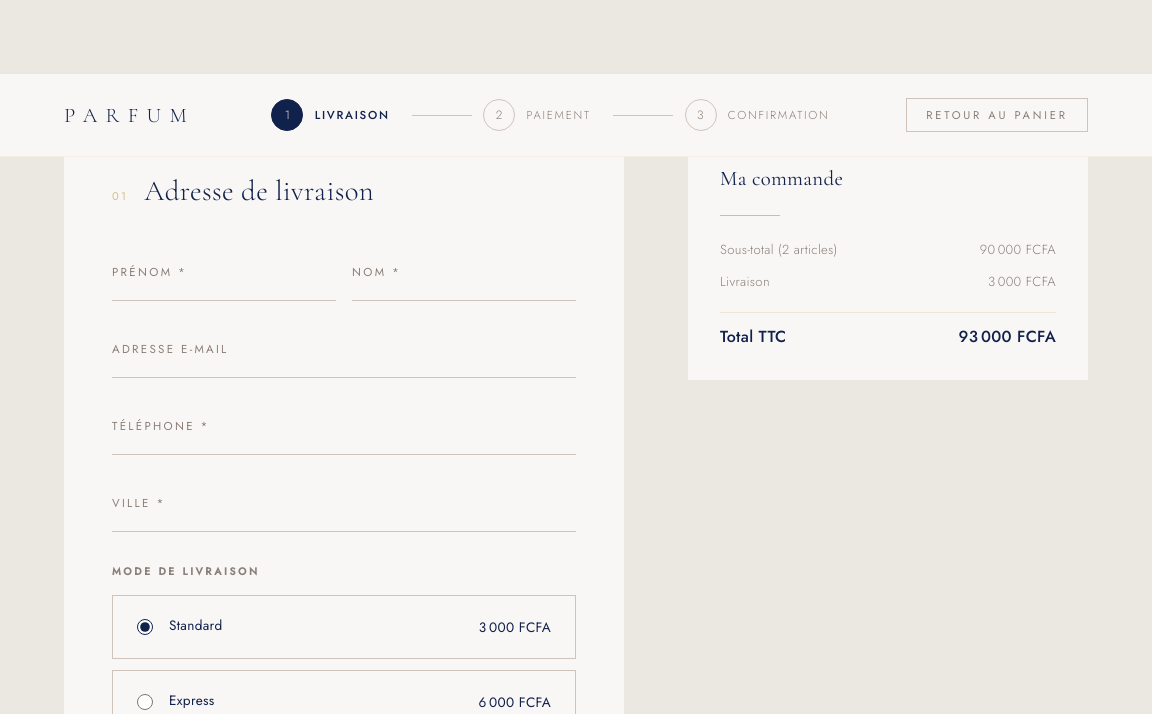
Test: Checkout — formulaire de paiement › avance vers le formulaire de paiement après soumission de l'adresse
This screenshot has width=1152, height=714.
In the field labelled "Prénom *": (224,274) [112,248,336,301], type "Alice"
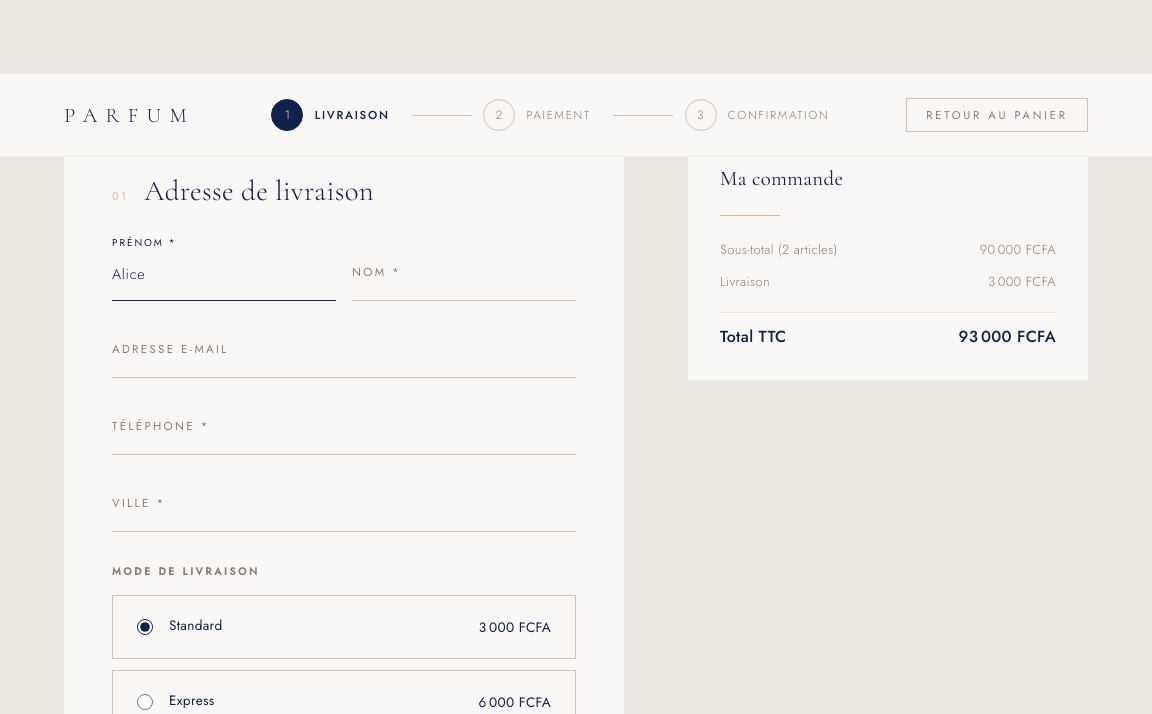
In the field labelled "Nom *": (464,274) [352,248,576,301], type "Dupont"
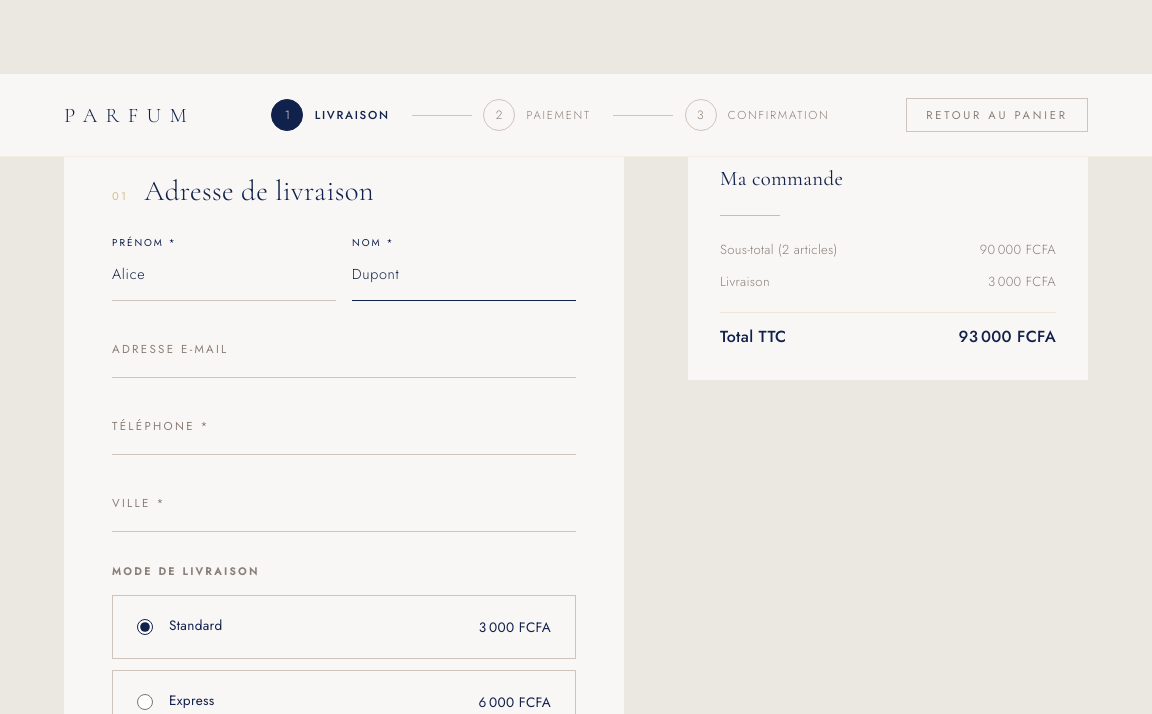
In the field labelled "Téléphone *": (344,428) [112,402,576,455], type "0102030405"
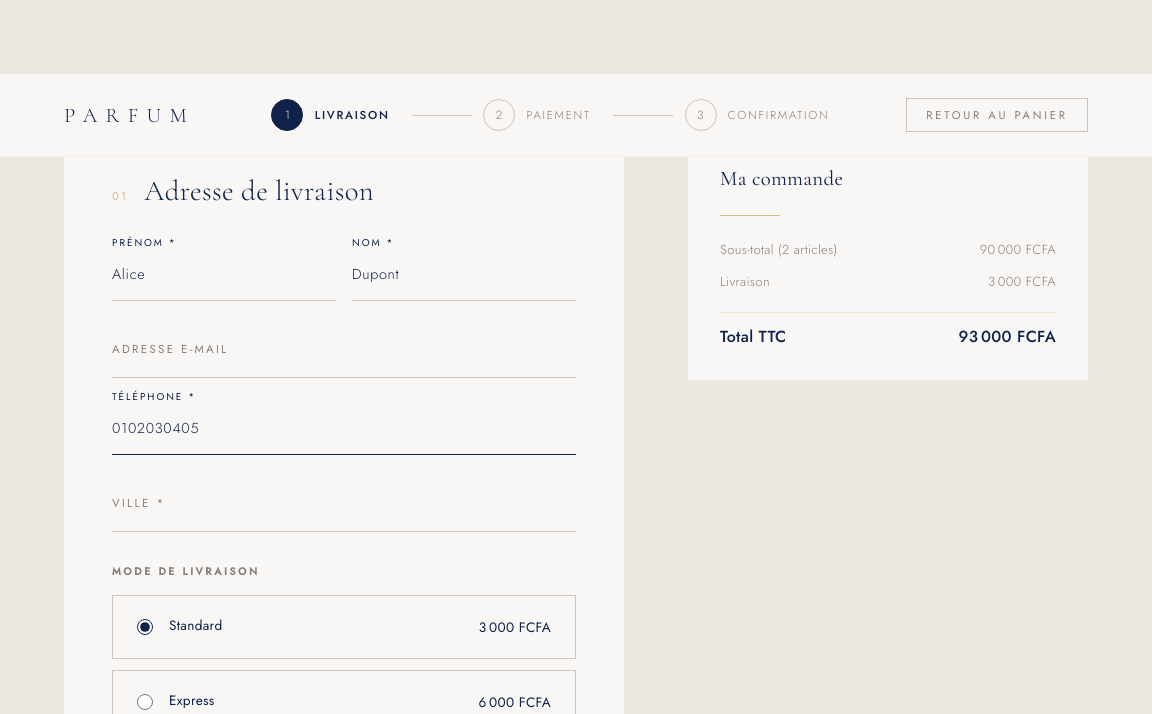
In the field labelled "Ville *": (344,506) [112,479,576,532], type "Paris"
(page scrolled)
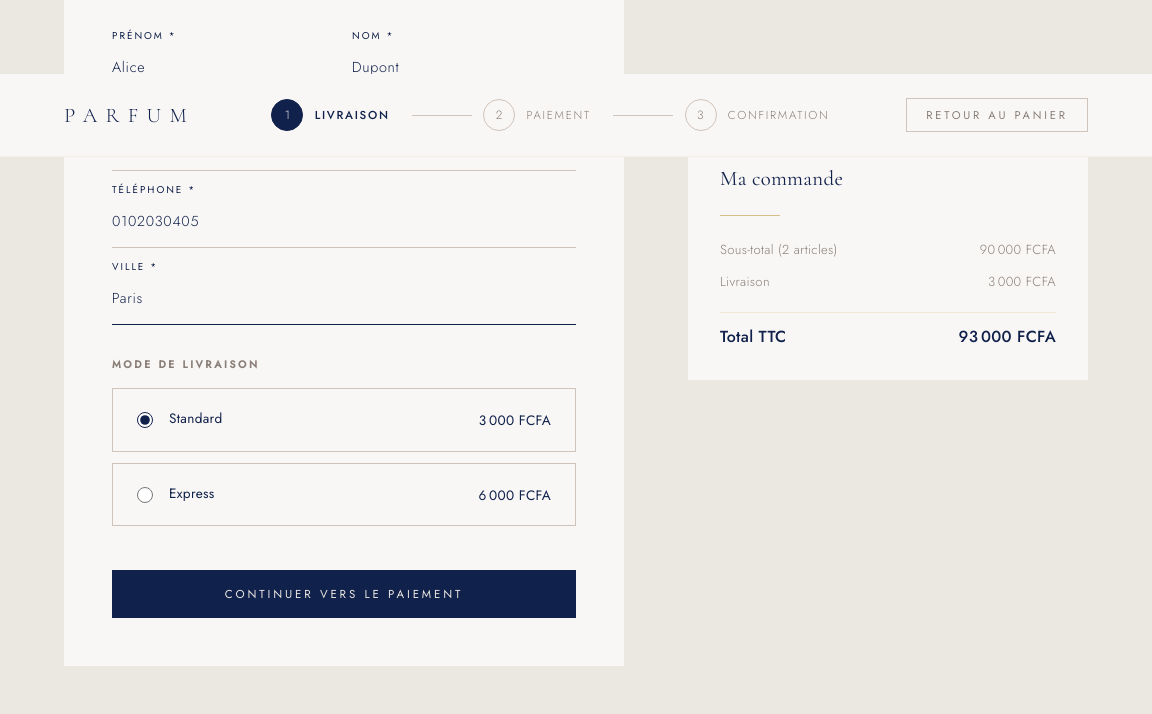
Click the button "Continuer vers le paiement": (344,594) [112,570,576,618]
(page scrolled)
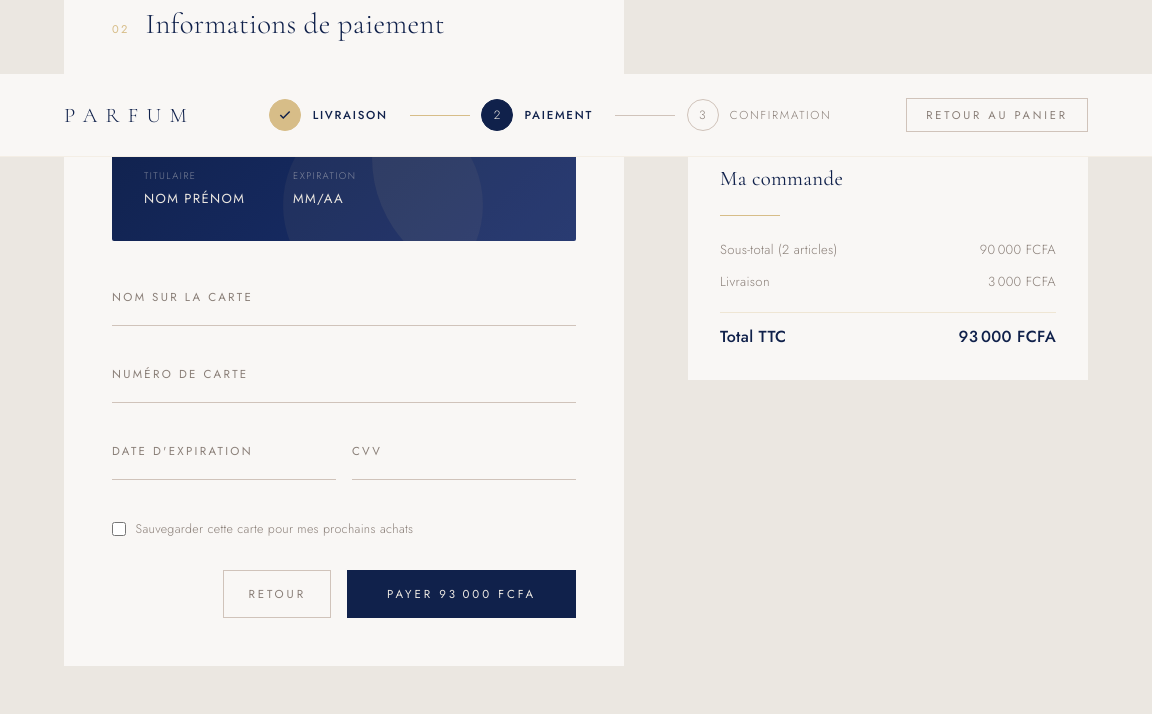
Result: the field labelled "Numéro de carte" is shown at [112,350,576,403]
Result: the heading "02 Informations de paiement" is shown at [112,6,445,41]
